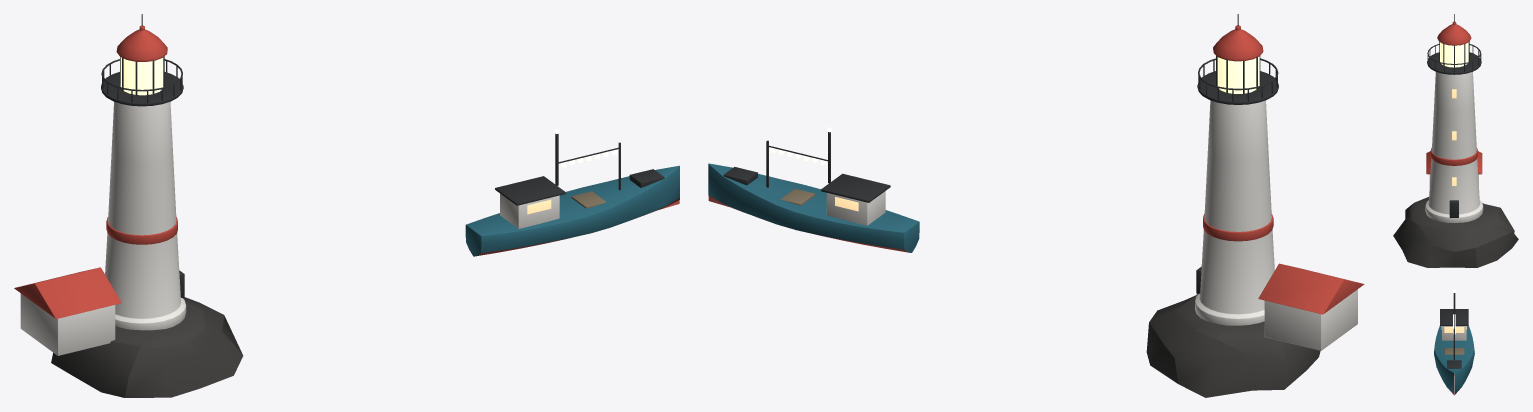
Rendered from props.glb.
3 views of the same model, side by side, from view 1: azimuth 30°, elevation 25°; view 2: azimuth 150°, elevation 25°; view 3: azimuth 270°, elevation 25° (orthographic). The views are drawn at different scales.
Visible parts, largest first — view 1: lighthouse, boat; view 2: lighthouse, boat; view 3: lighthouse, boat.
Part boxes in pixels (x1=…): lighthouse: x1=14, y1=14, x2=243, y2=397; boat: x1=465, y1=129, x2=679, y2=256; lighthouse: x1=1146, y1=14, x2=1364, y2=397; boat: x1=708, y1=127, x2=919, y2=252; lighthouse: x1=1393, y1=14, x2=1518, y2=267; boat: x1=1434, y1=289, x2=1474, y2=395.
Size of the model in its own units: 59.4 by 30.82 by 15.24.
